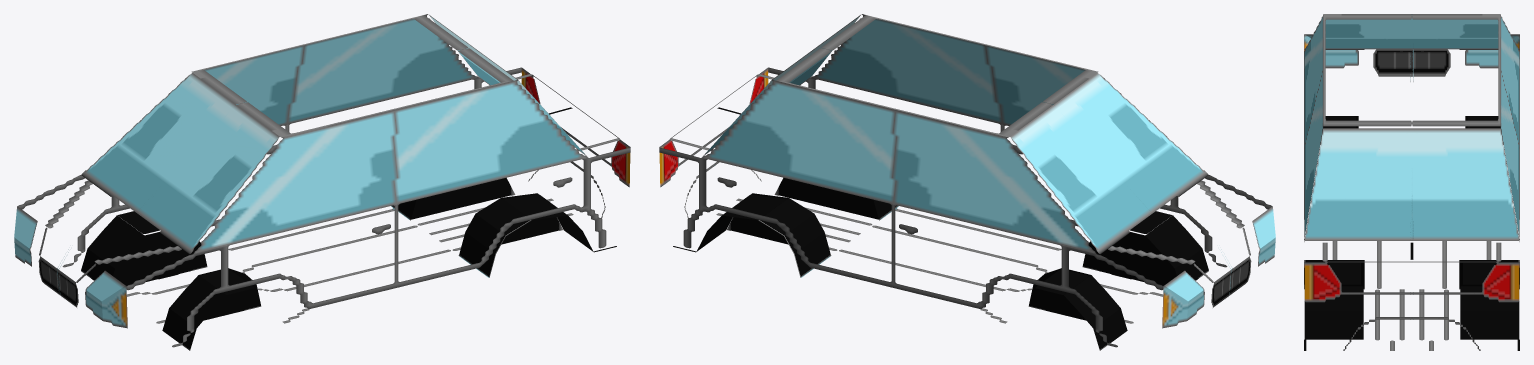
File: trafic cars-sedan.fbx
3 views of the same model, side by side, from view 1: azimuth 30°, elevation 25°; view 2: azimuth 150°, elevation 25°; view 3: azimuth 270°, elevation 25° (orthographic).
Parts seen in each view (by area): view 1: Sedan; view 2: Sedan; view 3: Sedan.
Boxes of the visible parts, <box> form: Sedan: <box>14,14,630,350</box>; Sedan: <box>659,14,1275,350</box>; Sedan: <box>1304,14,1519,350</box>.
Size of the model in its own units: 350 by 321 by 958.
1 material, 1 textured.
